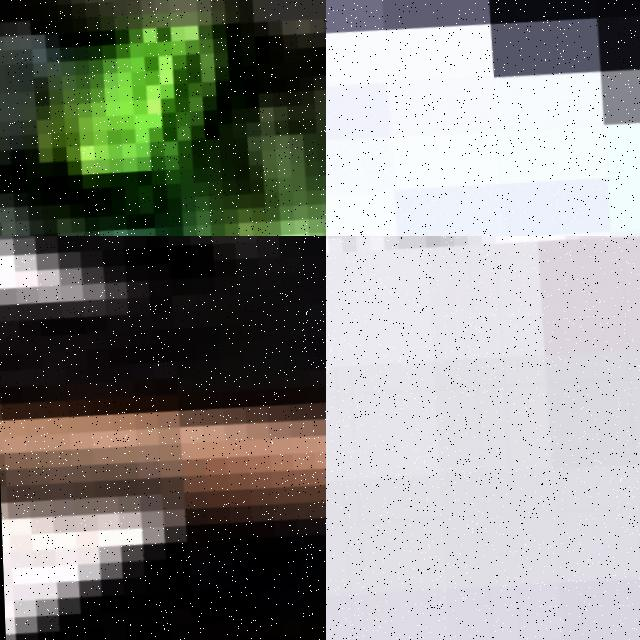drone: (0, 236, 326, 640), (326, 236, 640, 640), (0, 0, 326, 236), (326, 0, 640, 236)
